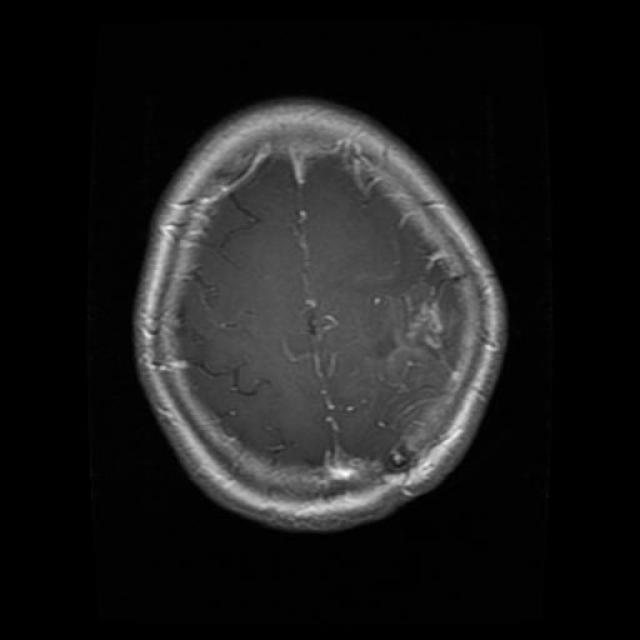glioma: (247, 170, 367, 303)
